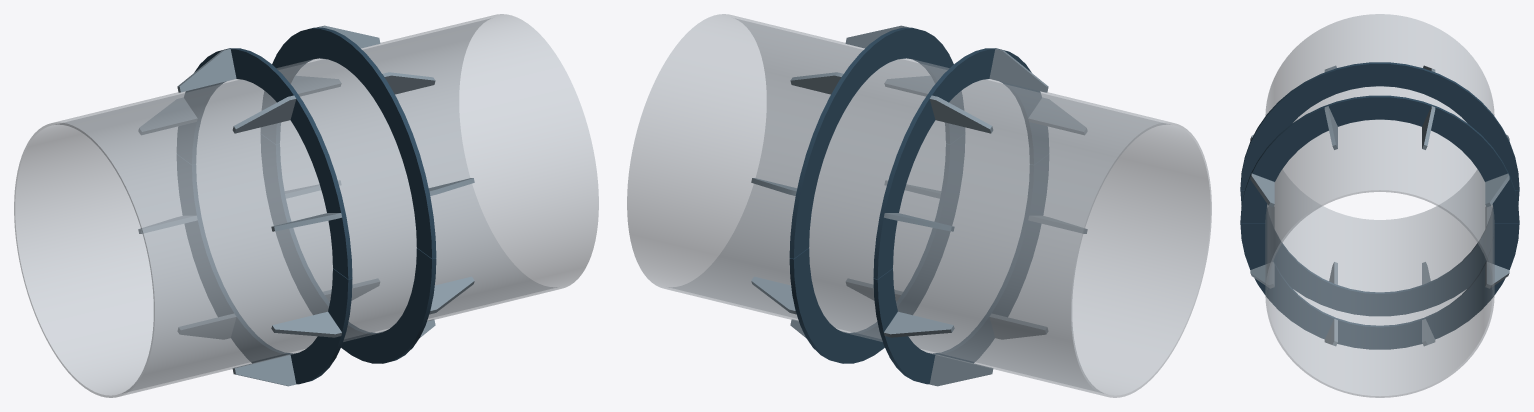
Rendered from TS-666.00.00-16-opora-dn920-D1120.glb.
3 views of the same model, side by side, from view 1: azimuth 30°, elevation 25°; view 2: azimuth 150°, elevation 25°; view 3: azimuth 270°, elevation 25° (orthographic). The views are drawn at different scales.
Parts seen in each view (by area): view 1: truba, polukoltso_1, polukoltso_11, polukoltso_16, polukoltso_6, rebro_8, rebro_18, rebro_17, rebro_7, rebro_9, rebro_19, rebro_12 (+3 smaller); view 2: truba, polukoltso_1, polukoltso_11, polukoltso_16, polukoltso_6, rebro_9, rebro_19, rebro_20, rebro_10, rebro_8, rebro_18, rebro_15 (+3 smaller); view 3: truba, polukoltso_1, polukoltso_11, polukoltso_6, polukoltso_16, rebro_2, rebro_5, rebro_12, rebro_15, rebro_3, rebro_4.
Boxes of the visible parts, x1=… form: truba: x1=14, y1=14, x2=598, y2=397; polukoltso_1: x1=261, y1=27, x2=436, y2=258; polukoltso_11: x1=261, y1=134, x2=436, y2=363; polukoltso_16: x1=177, y1=154, x2=352, y2=384; polukoltso_6: x1=177, y1=48, x2=352, y2=279; rebro_8: x1=177, y1=49, x2=236, y2=92; rebro_18: x1=232, y1=354, x2=296, y2=386; rebro_17: x1=271, y1=311, x2=341, y2=337; rebro_7: x1=139, y1=98, x2=197, y2=134; rebro_9: x1=232, y1=95, x2=296, y2=133; rebro_19: x1=178, y1=314, x2=235, y2=339; rebro_12: x1=429, y1=276, x2=474, y2=314; truba: x1=627, y1=14, x2=1211, y2=397; polukoltso_1: x1=789, y1=27, x2=964, y2=258; polukoltso_11: x1=789, y1=134, x2=964, y2=363; polukoltso_16: x1=873, y1=154, x2=1048, y2=384; polukoltso_6: x1=873, y1=48, x2=1048, y2=279; rebro_9: x1=989, y1=49, x2=1048, y2=92; rebro_19: x1=929, y1=354, x2=993, y2=386; rebro_20: x1=884, y1=311, x2=954, y2=337; rebro_10: x1=1028, y1=98, x2=1086, y2=134; rebro_8: x1=929, y1=95, x2=993, y2=133; rebro_18: x1=990, y1=314, x2=1047, y2=339; rebro_15: x1=751, y1=276, x2=796, y2=314; truba: x1=1265, y1=14, x2=1494, y2=397; polukoltso_1: x1=1240, y1=95, x2=1519, y2=223; polukoltso_11: x1=1240, y1=223, x2=1519, y2=349; polukoltso_6: x1=1240, y1=62, x2=1519, y2=189; polukoltso_16: x1=1240, y1=190, x2=1519, y2=316; rebro_2: x1=1485, y1=173, x2=1509, y2=207; rebro_5: x1=1250, y1=173, x2=1274, y2=207; rebro_12: x1=1250, y1=262, x2=1274, y2=288; rebro_15: x1=1485, y1=262, x2=1509, y2=288; rebro_3: x1=1422, y1=106, x2=1435, y2=149; rebro_4: x1=1324, y1=106, x2=1337, y2=149.
Size of the model in its own units: 1672 by 1118 by 1120.
